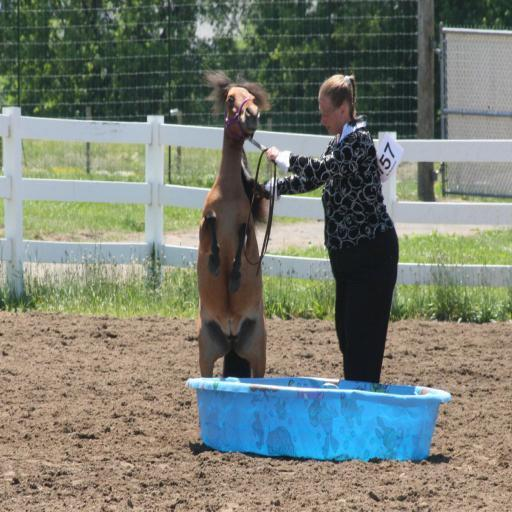horse: (194, 62, 268, 379)
